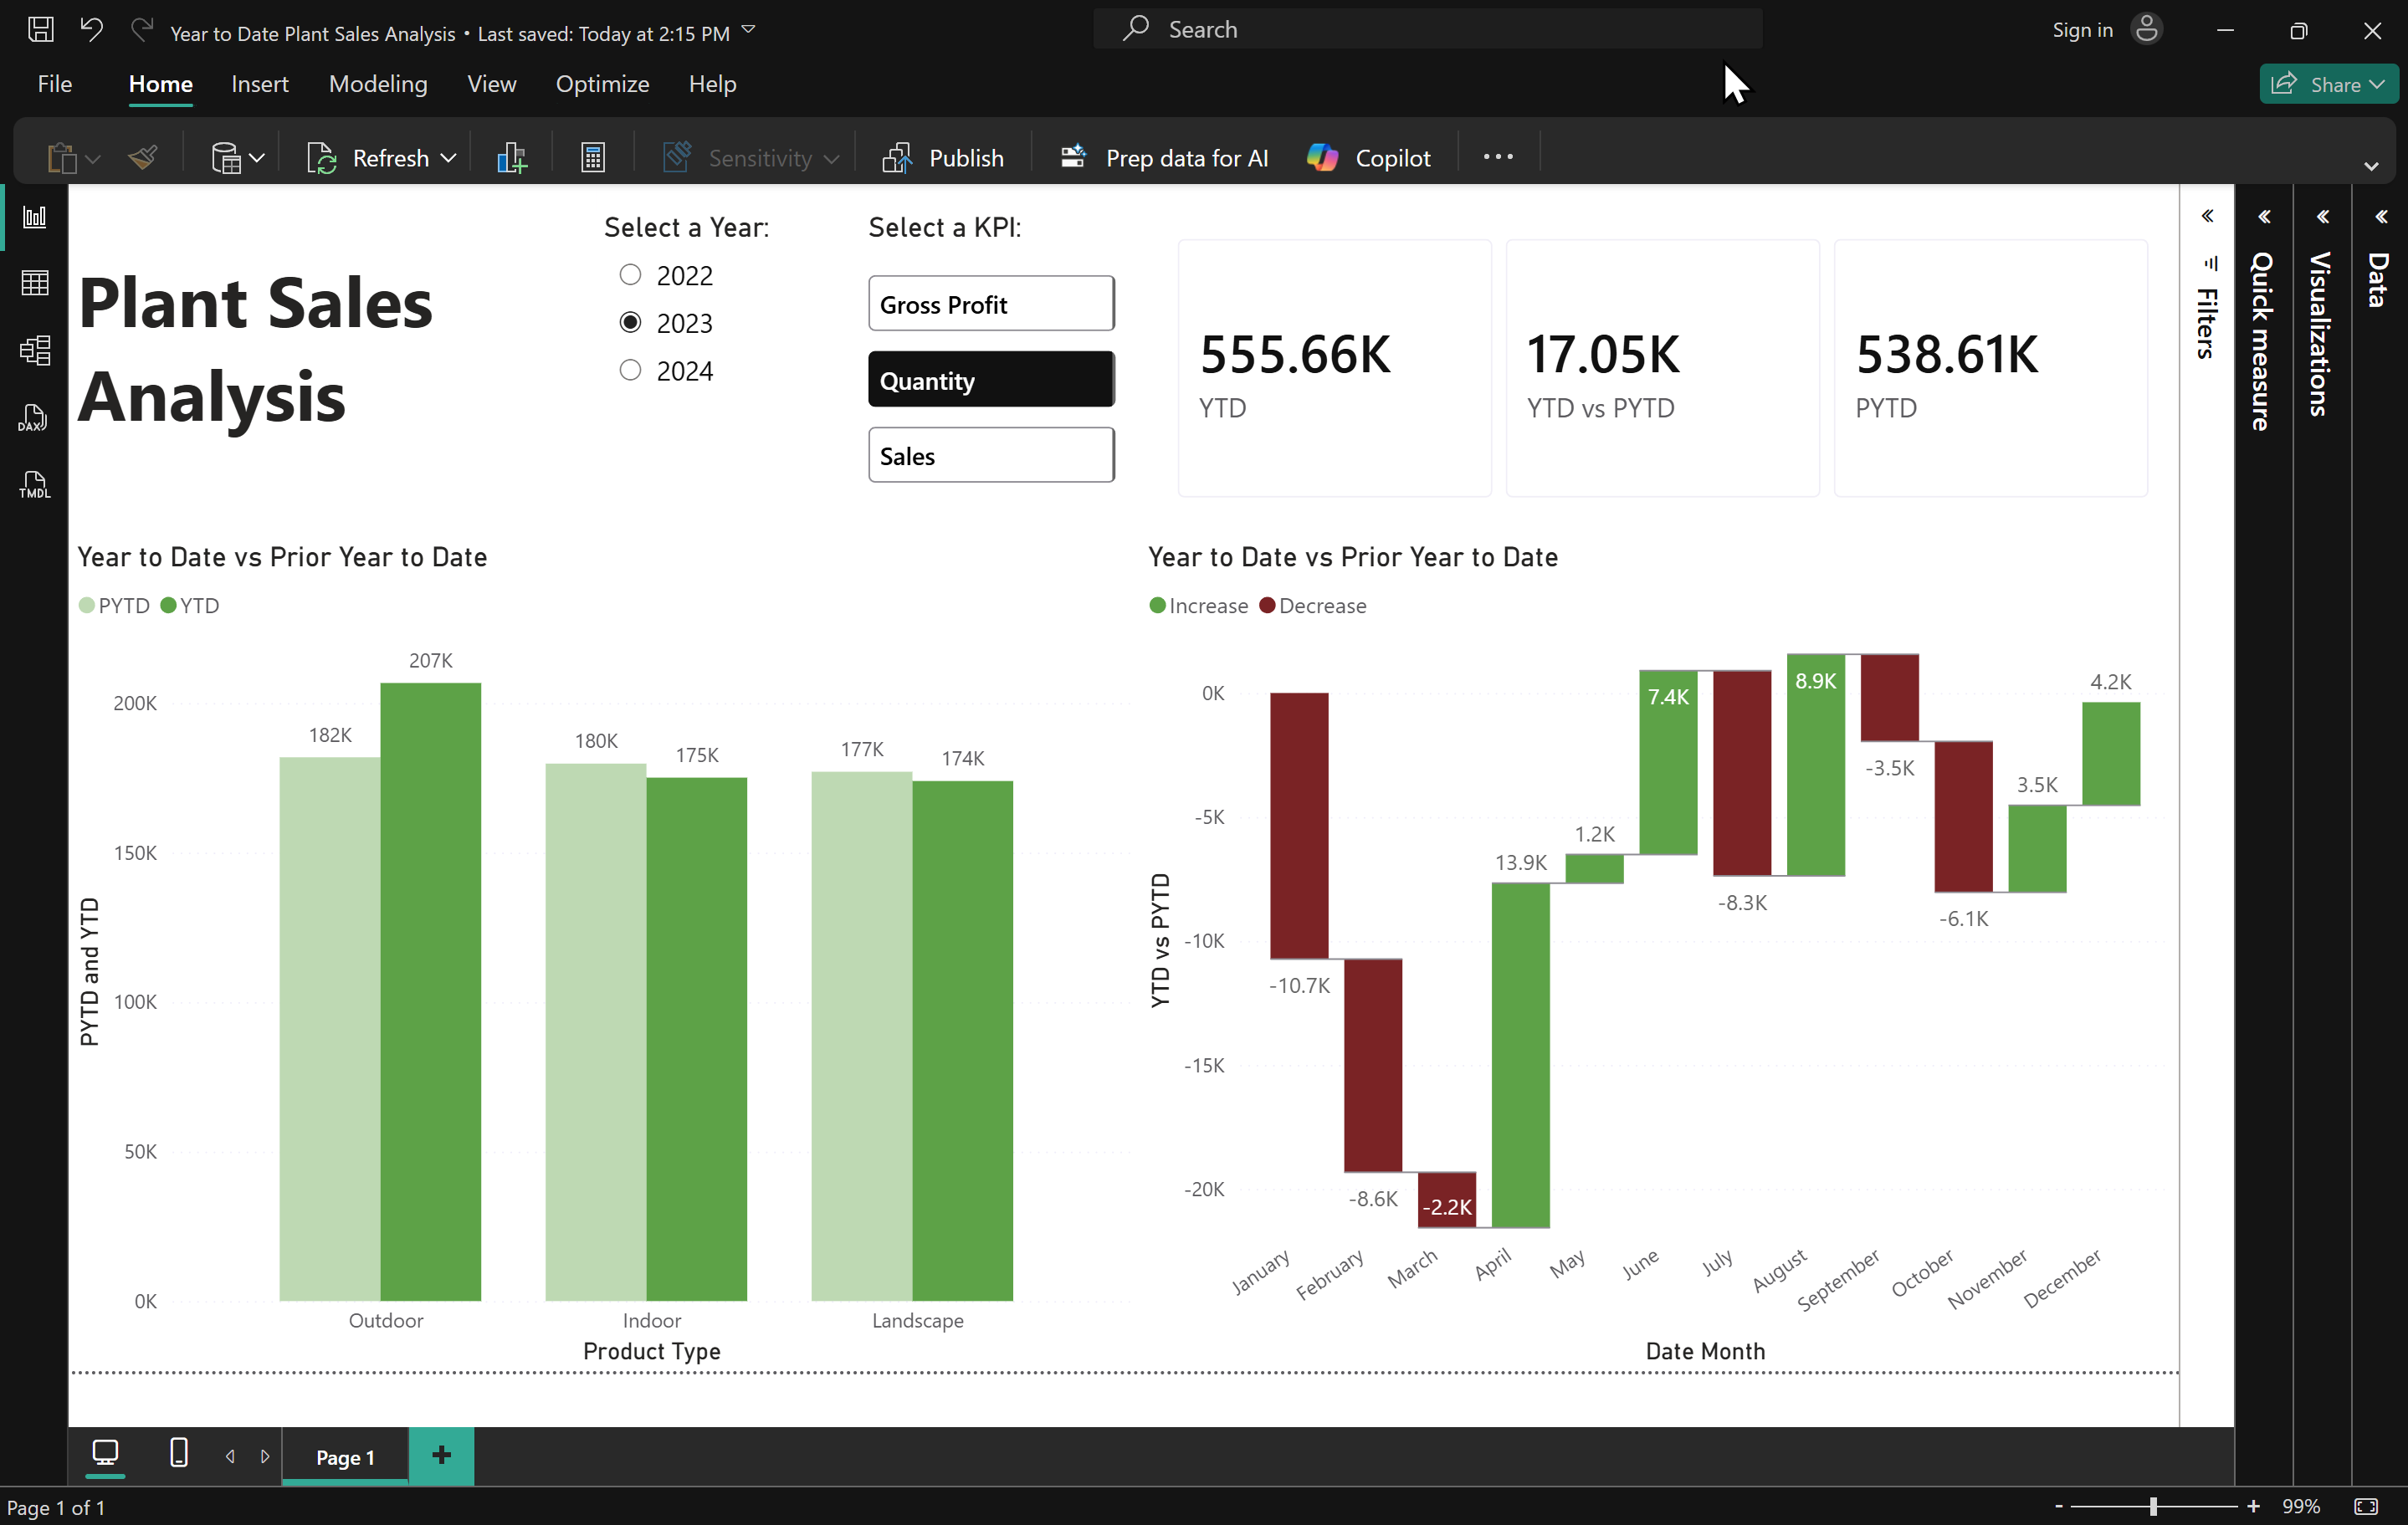

Layout of this report page (visuals, bound fields, positions):
{"tool":"powerbi","page":{"name":"Page 1","canvas":[1280,720],"ordinal":0},"visuals":[{"type":"textbox","box":[0,0,1280,215.5],"z":0},{"type":"advancedSlicerVisual","title":"Select a KPI:","fields":{"Values":["Slicer_Values.Values"]},"box":[480,16,160,192],"z":1000},{"type":"cardVisual","fields":{"Data":["_Measures.Switch_YTD","_Measures.YTD vs PYTD","_Measures.Switch_PYTD"]},"box":[656,16,624,192],"z":2000},{"type":"textbox","box":[0,0,320,208],"z":3000},{"type":"slicer","title":"Select a Year:","fields":{"Values":["Dim_Date.Date.Variation.Date Hierarchy.Year"]},"box":[320,16,160,192],"z":4000},{"type":"waterfallChart","fields":{"Category":["Dim_Date.Date.Variation.Date Hierarchy.Month"],"Y":["_Measures.YTD vs PYTD"]},"box":[649.3,215.9,630.7,504.9],"z":5000},{"type":"clusteredColumnChart","title":"Year to Date vs Prior Year to Date","fields":{"Category":["Dim_Product.Produt_Type"],"Y":["_Measures.Switch_PYTD","_Measures.Switch_YTD"]},"box":[0,215.9,649.3,504.9],"z":6000}]}

Visuals, with their boxes on the page's 1280x720 design canvas (x1, y1, x2, y2). These are canvas units, not pixel positions in the 2408x1525 screenshot, which may show the page scaled, cropped or inside an application window:
textbox: [left=0, top=0, right=1280, bottom=216]
"Select a KPI:" advancedSlicerVisual: [left=480, top=16, right=640, bottom=208]
cardVisual - _Measures.Switch_YTD x _Measures.YTD vs PYTD: [left=656, top=16, right=1280, bottom=208]
textbox: [left=0, top=0, right=320, bottom=208]
"Select a Year:" slicer: [left=320, top=16, right=480, bottom=208]
waterfallChart - Dim_Date.Date.Variation.Date Hierarchy.Month x _Measures.YTD vs PYTD: [left=649, top=216, right=1280, bottom=721]
"Year to Date vs Prior Year to Date" clusteredColumnChart: [left=0, top=216, right=649, bottom=721]
